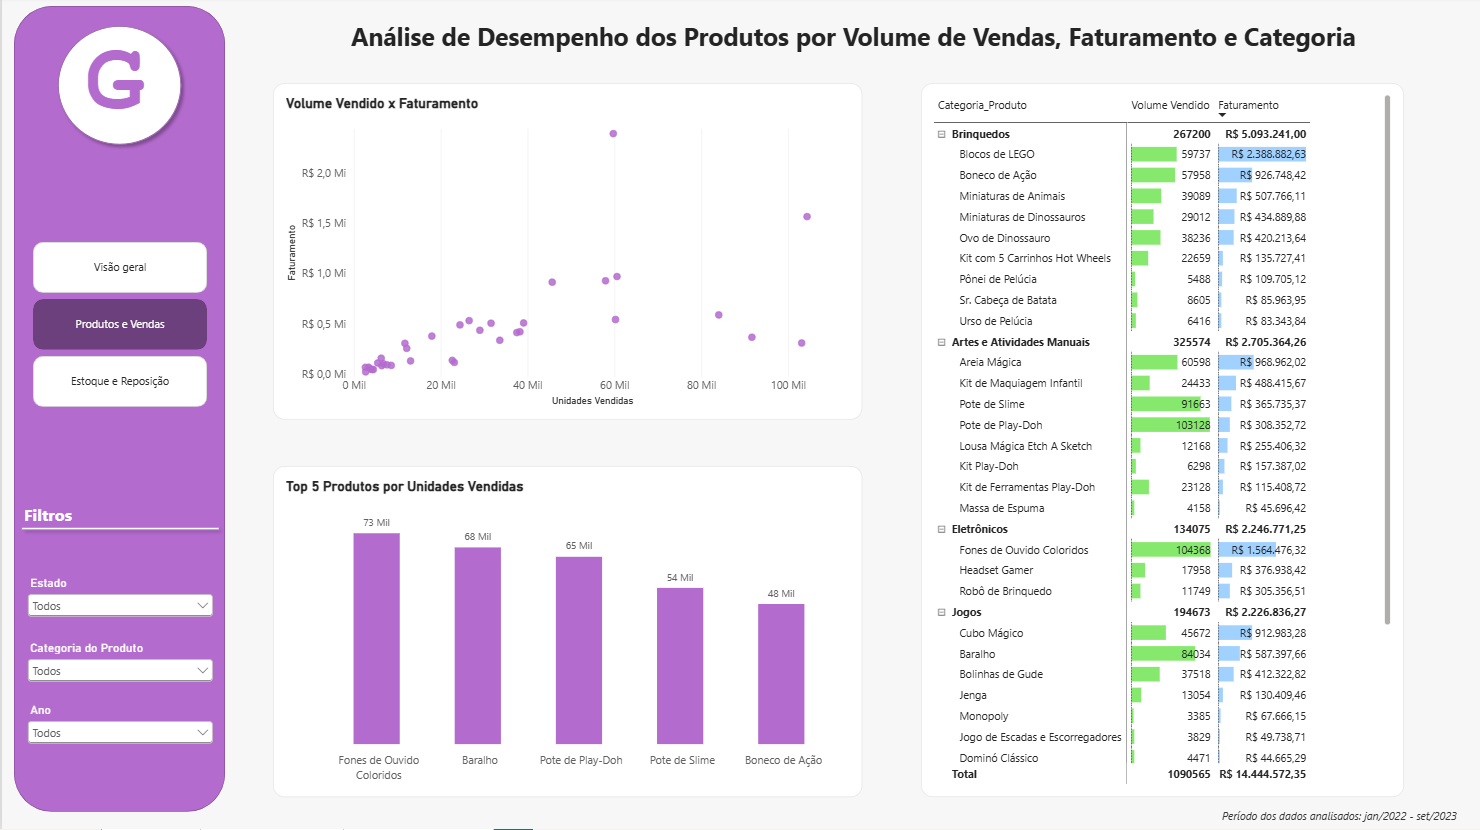

This screenshot's page, from the dashboard's own definition file:
{"tool":"powerbi","page":{"name":"Produtos e Vendas","canvas":[1920,1080],"ordinal":1},"visuals":[{"type":"pivotTable","fields":{"Rows":["produtos_processed.Categoria_Produto","produtos_processed.Nome_Produto"],"Values":["Sum(vendas_processed.Quantidade)","Medidas.Faturamento"]},"box":[1193.3,112,626.7,926.7],"z":0},{"type":"scatterChart","title":"Volume Vendido x Faturamento","fields":{"Category":["produtos_processed.Nome_Produto"],"X":["Sum(vendas_processed.Quantidade)"],"Y":["Medidas.Faturamento"]},"box":[351.7,112,765,436.7],"z":1000},{"type":"clusteredColumnChart","title":"Top 5 Produtos por Unidades Vendidas","fields":{"Category":["produtos_processed.Nome_Produto"],"Y":["CountNonNull(vendas_processed.Quantidade)"]},"box":[351.7,608.6,765,430],"z":2000},{"type":"shape","box":[16,12,274,1046],"z":3000},{"type":"shape","box":[64,28,178,172],"z":4000},{"type":"textbox","box":[108,38,92,150],"z":5000},{"type":"pageNavigator","box":[40,318.6,226,216],"z":6000},{"type":"slicer","fields":{"Values":["lojas_processed.Estado_Loja"]},"box":[28.6,750,250,61.7],"z":7000},{"type":"textbox","box":[28.6,657.1,113.3,33.3],"z":8000},{"type":"shape","box":[17.1,662.9,273.3,53.3],"z":9000},{"type":"slicer","fields":{"Values":["produtos_processed.Categoria_Produto"]},"box":[28.6,834.3,250,70],"z":10000},{"type":"slicer","fields":{"Values":["calendario_processed.Data.Variation.Hierarquia de datas.Ano"]},"box":[28.6,915.7,250,58.2],"z":11000},{"type":"textbox","box":[453.3,28.3,1325,66.7],"z":12000},{"type":"textbox","box":[1583.3,1053.3,336.7,26.7],"z":13000}]}

Visuals, with their boxes in screenshot pixels (x1, y1, x2, y2), scaled from the page's 1920x1080 canvas onto the 1480x830 screenshot:
pivotTable - produtos_processed.Categoria_Produto x produtos_processed.Nome_Produto: [left=920, top=86, right=1403, bottom=798]
"Volume Vendido x Faturamento" scatterChart: [left=271, top=86, right=861, bottom=422]
"Top 5 Produtos por Unidades Vendidas" clusteredColumnChart: [left=271, top=468, right=861, bottom=798]
shape: [left=12, top=9, right=224, bottom=813]
shape: [left=49, top=22, right=187, bottom=154]
textbox: [left=83, top=29, right=154, bottom=144]
pageNavigator: [left=31, top=245, right=205, bottom=411]
slicer - lojas_processed.Estado_Loja: [left=22, top=576, right=215, bottom=624]
textbox: [left=22, top=505, right=109, bottom=531]
shape: [left=13, top=509, right=224, bottom=550]
slicer - produtos_processed.Categoria_Produto: [left=22, top=641, right=215, bottom=695]
slicer - calendario_processed.Data.Variation.Hierarquia de datas.Ano: [left=22, top=704, right=215, bottom=748]
textbox: [left=349, top=22, right=1371, bottom=73]
textbox: [left=1220, top=809, right=1479, bottom=829]
